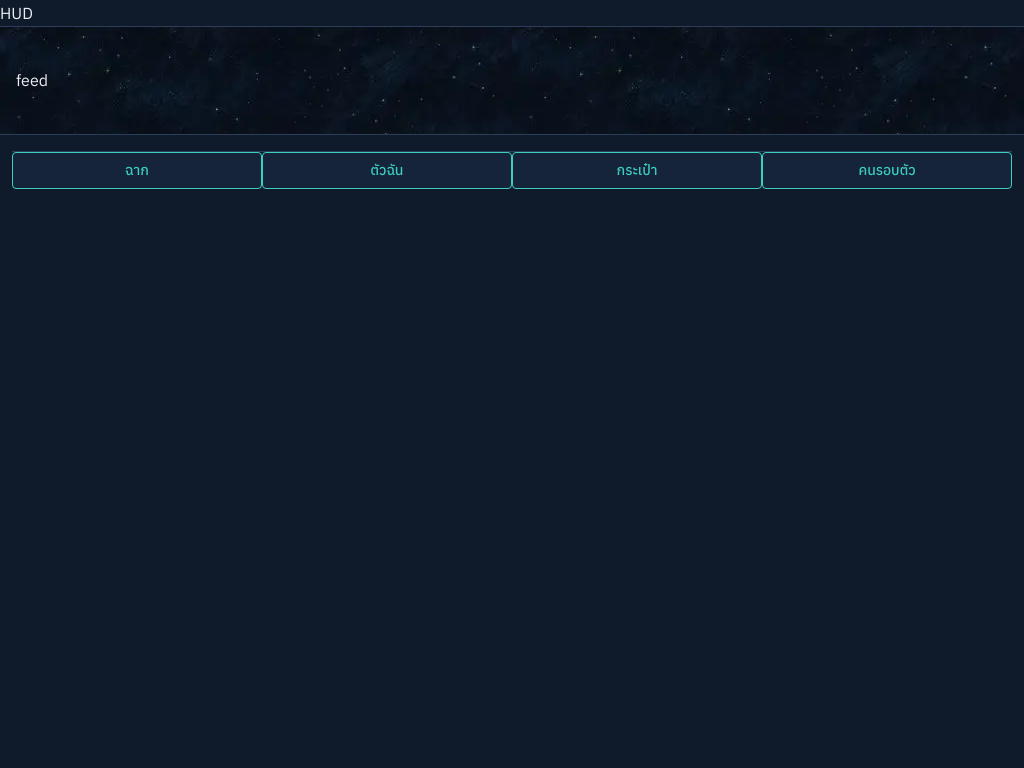
it: C3 MobileLayout: bottom tabs open a sheet › the sheet has its own four tabs to move between panels
This screenshot has width=1024, height=768.
Click the button "ฉาก": (137, 171) left=12, top=152, right=262, bottom=189
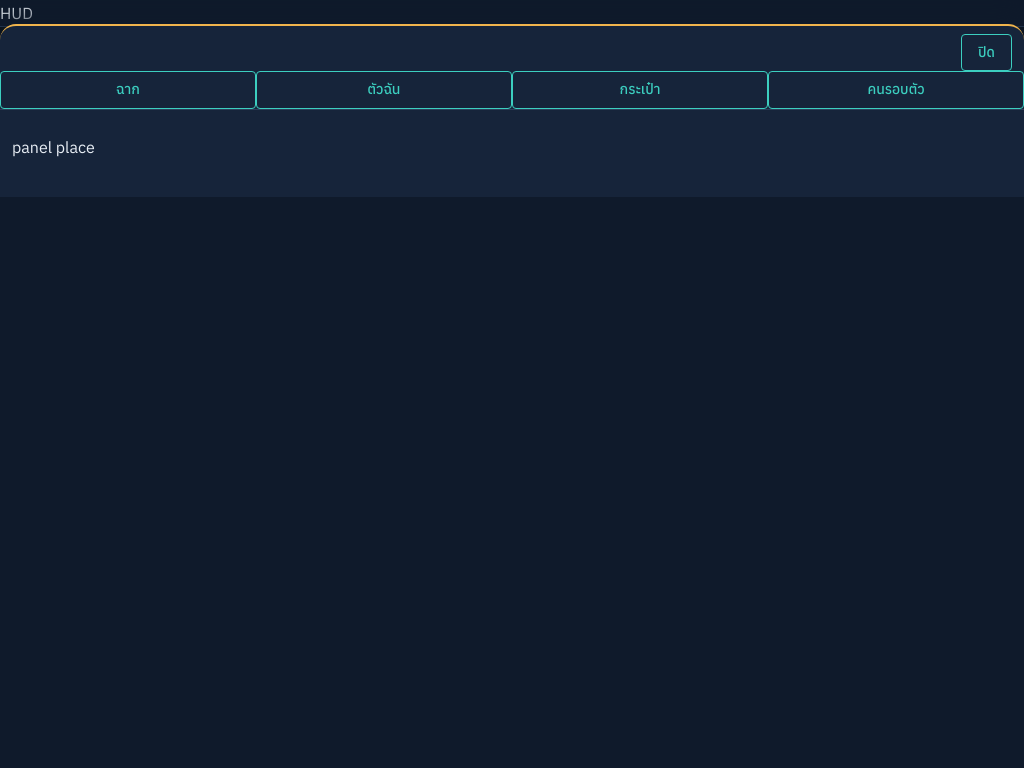
Click the tab "คนรอบตัว": (896, 90) left=768, top=71, right=1023, bottom=109
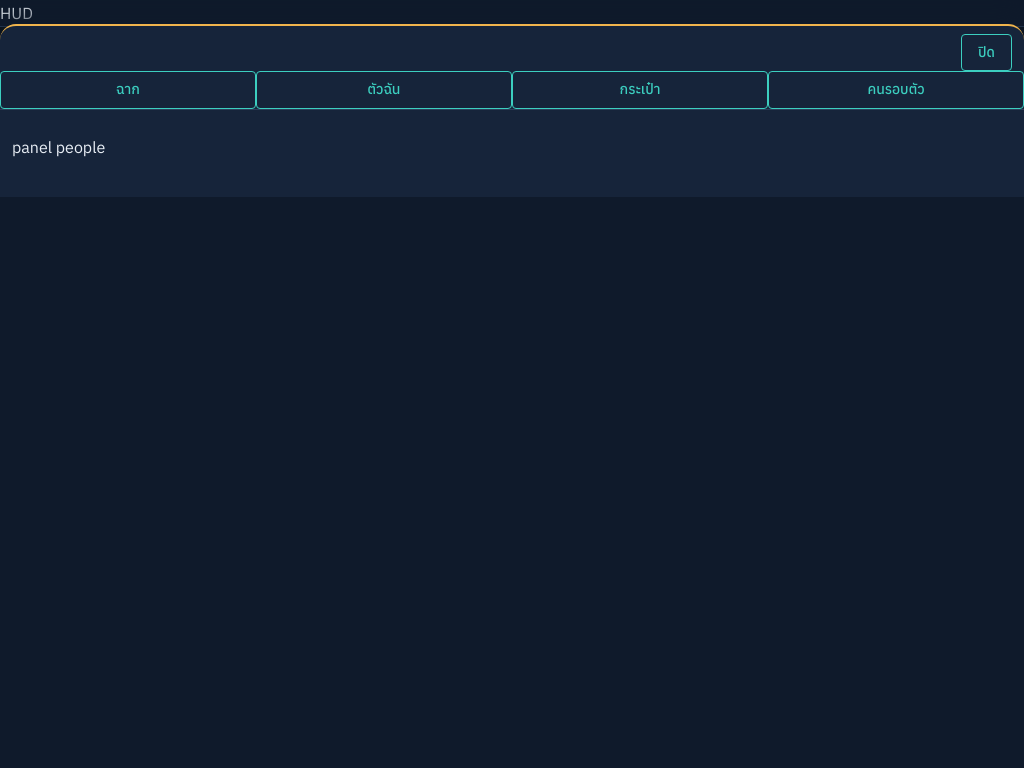
Expected: the text "panel people" is shown, left=12, top=137, right=105, bottom=157
